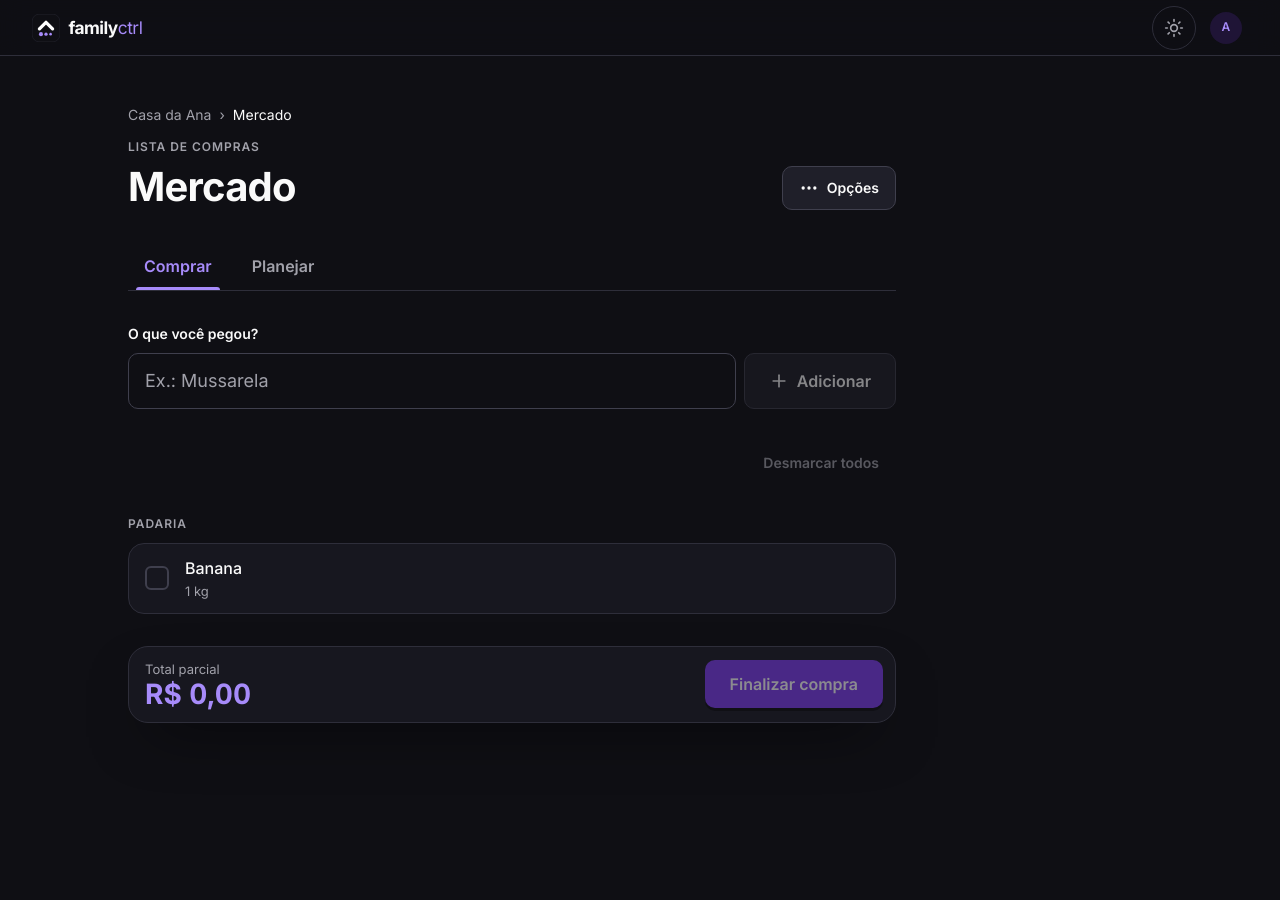
comprar › por kg, informa o peso e o preço total pago por ele
This screenshot has width=1280, height=900.
Click the checkbox named "Pegar Banana" at {"x": 157, "y": 578}, box [129, 544, 185, 613]
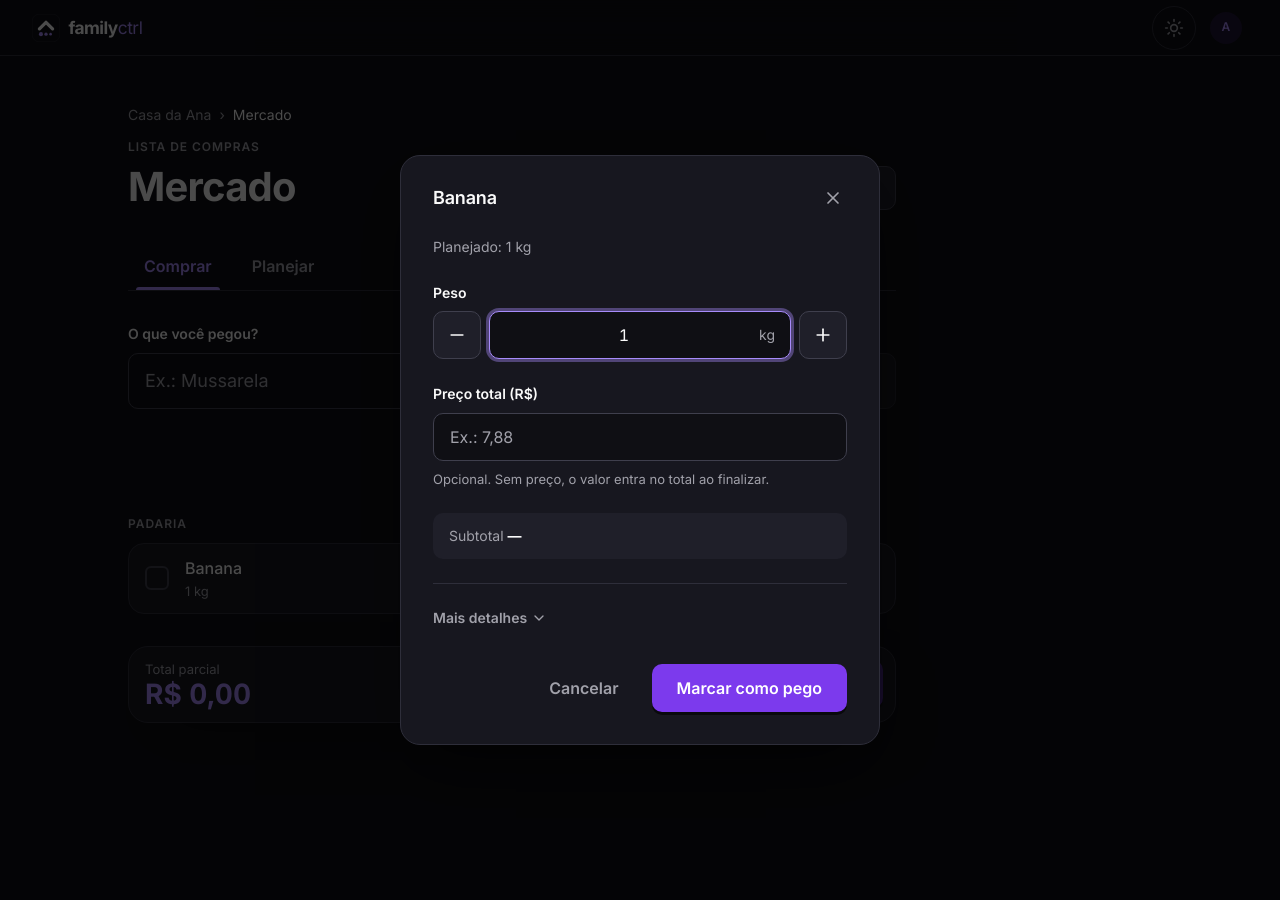
Expected: the field labelled "Peso" holds "1", [489, 311, 791, 359]
Click the heading "Mais detalhes" at {"x": 490, "y": 618}, box [433, 609, 547, 626]
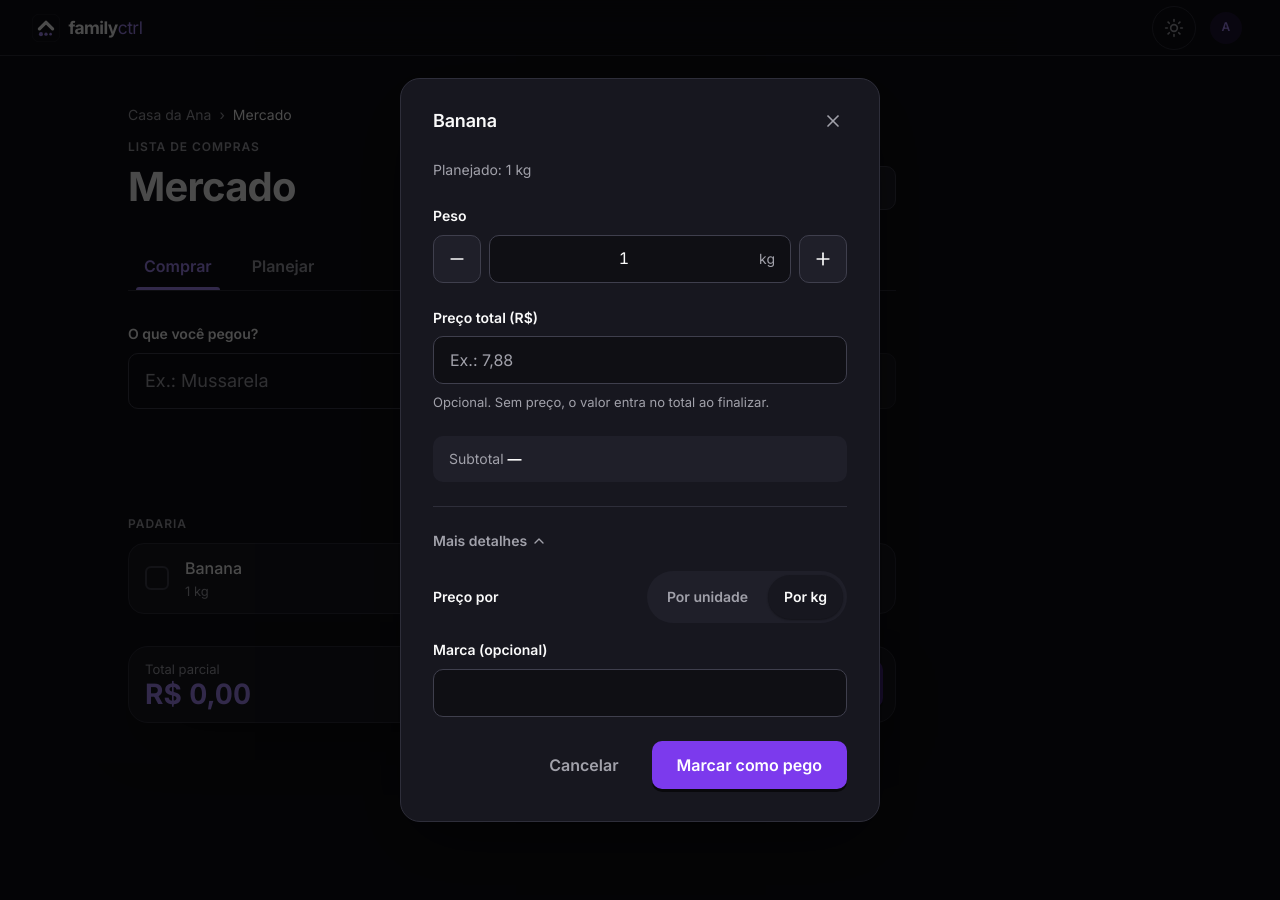
Replace the text in the field labelled "Peso" with "1,25" at {"x": 640, "y": 259}, box [489, 235, 791, 283]
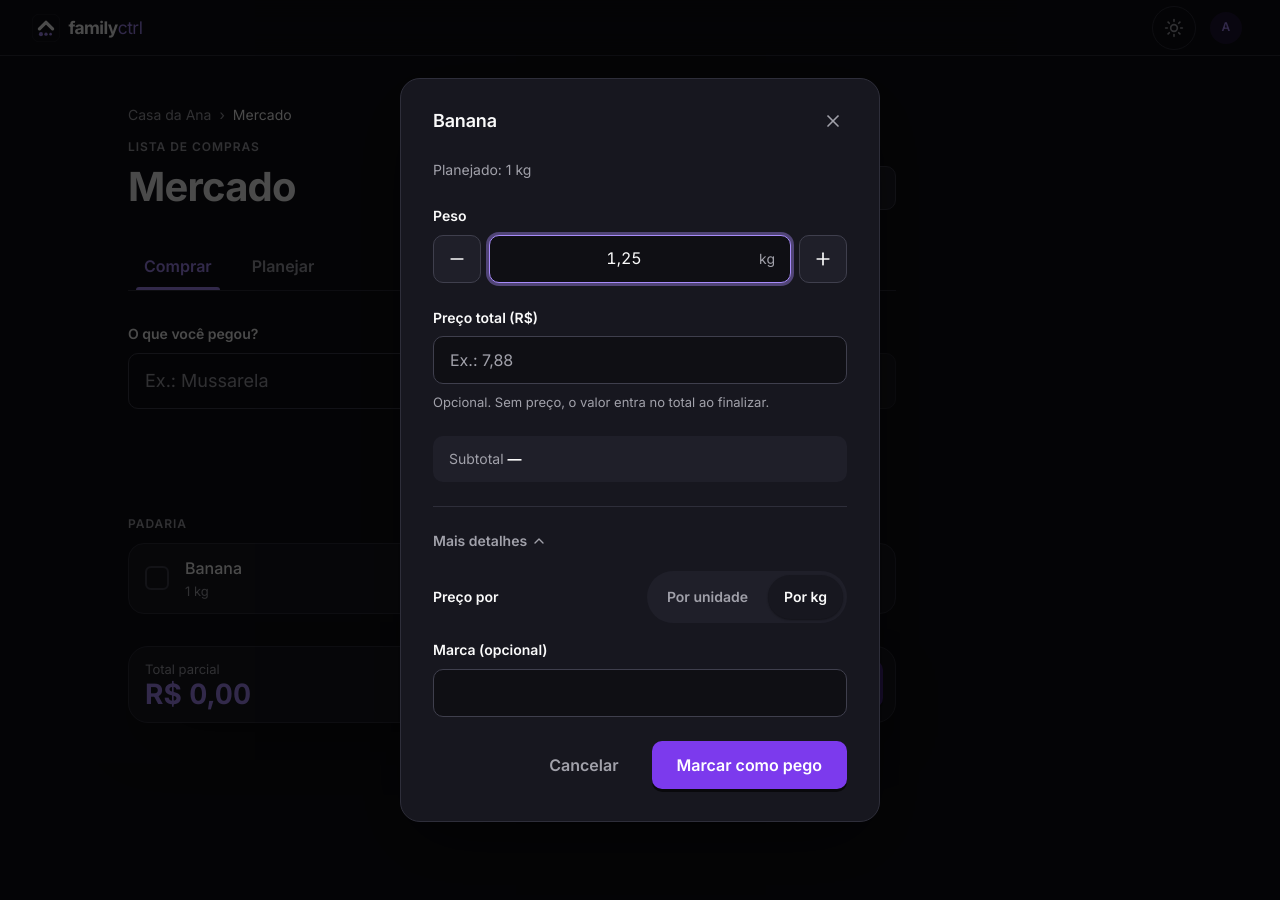
Type "8,63" into the field labelled "Preço total (R$)" at {"x": 640, "y": 360}, box [433, 336, 847, 384]
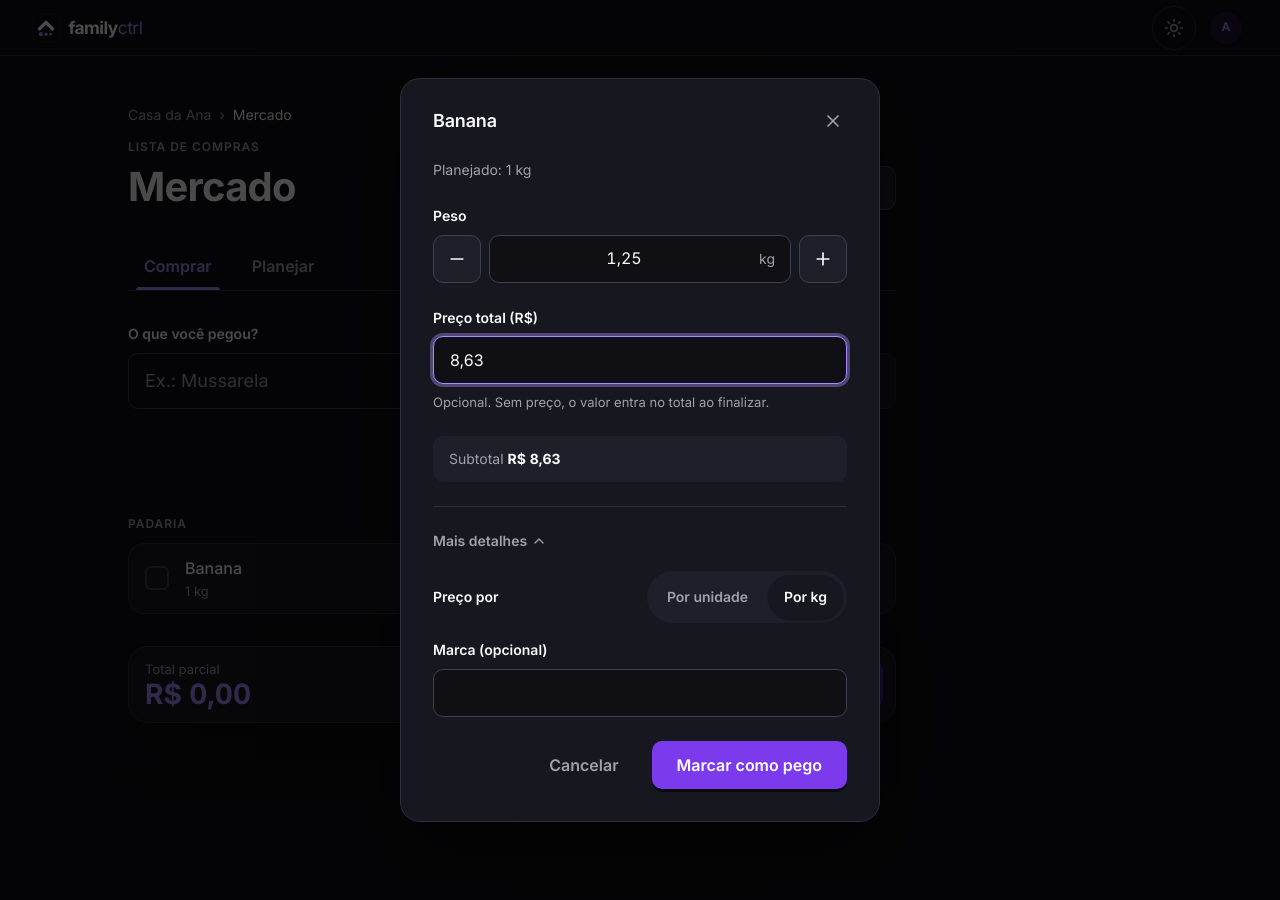
Expected: the text "R$ 8,63" is shown, [508, 450, 560, 467]
Click the button "Marcar como pego" at {"x": 749, "y": 765}, box [652, 741, 847, 789]
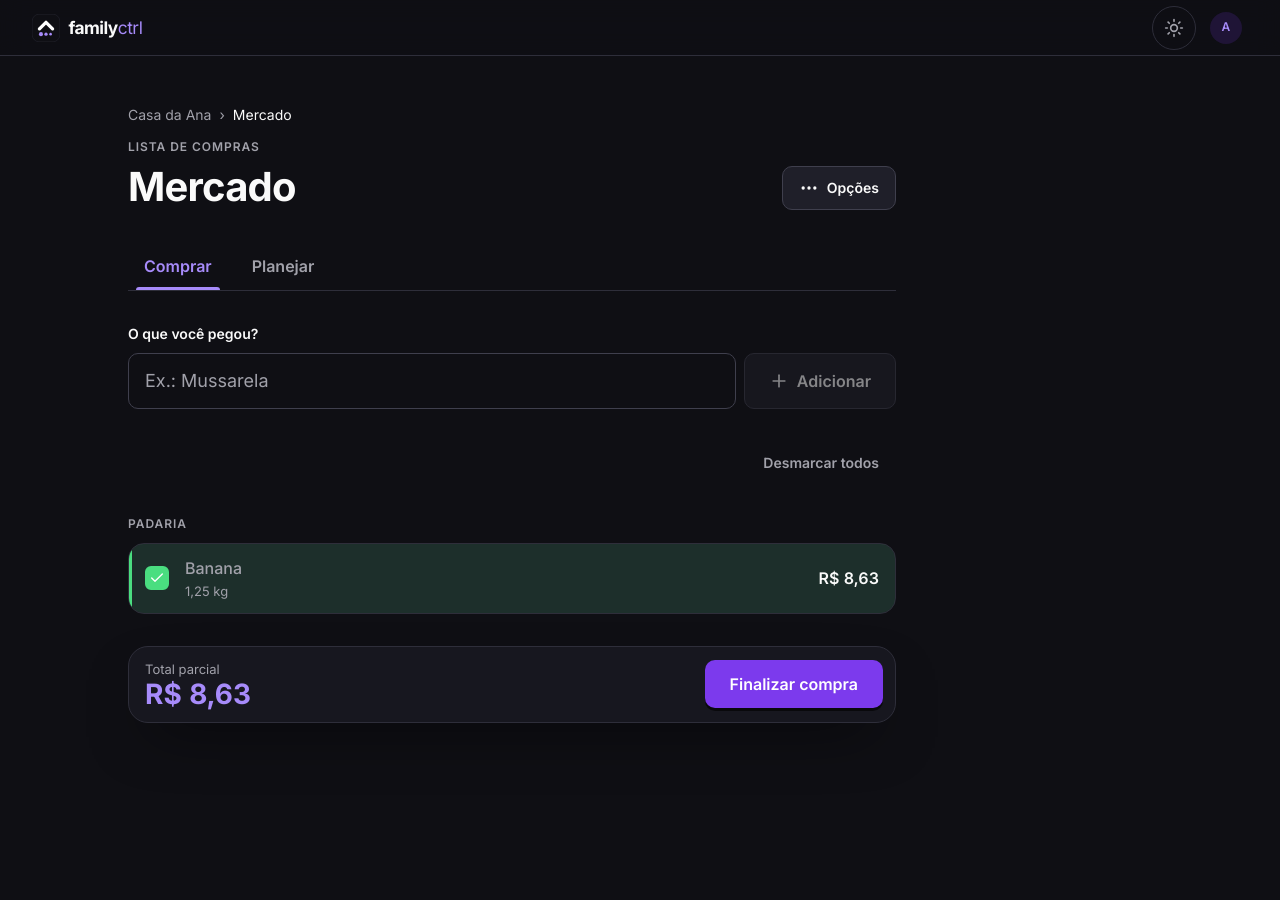
Expected: the text "R$ 8,63" below "Total parcial" is shown, [145, 677, 251, 711]
